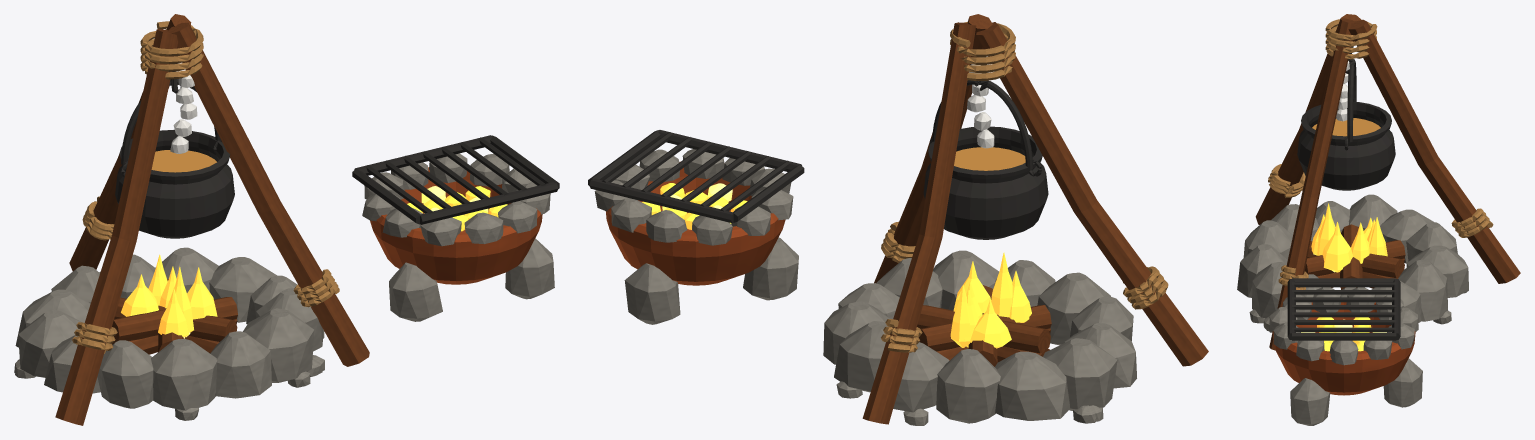
The model's file is campfire.glb.
3 renders of one model, left to right at view 1: azimuth 30°, elevation 25°; view 2: azimuth 150°, elevation 25°; view 3: azimuth 270°, elevation 25°, orthographic. The views are drawn at different scales.
Parts seen in each view (by area): view 1: Tripod pole 0, Tripod pole 1, Hollow cooking pot, Terracotta brazier bowl, Fire ring stone 04, Fire ring stone 02, Fire ring stone 03, Fire ring stone 05, Fire ring stone 07, Brazier stone foot.001, Fire ring stone 12, Tripod pole 2 (+38 smaller); view 2: Tripod pole 0, Tripod pole 2, Hollow cooking pot, Terracotta brazier bowl, Fire ring stone 08, Fire ring stone 09, Fire ring stone 07, Brazier stone foot.002, Fire ring stone 11, Fire ring stone 04, Tripod pole 1, Fire ring stone 10 (+39 smaller); view 3: Tripod pole 2, Hollow cooking pot, Tripod pole 1, Terracotta brazier bowl, Tripod pole 0, Fire ring stone 11, Brazier stone foot, Fire ring stone 10, Fire ring stone 02, Brazier stone foot.002, Fire ring stone 03, Fire ring stone 08 (+39 smaller).
Boxes of the visible parts, x1,y1,x2,y2 form: Tripod pole 0: [55, 28, 177, 425]; Tripod pole 1: [167, 22, 369, 366]; Hollow cooking pot: [115, 129, 234, 238]; Terracotta brazier bowl: [370, 167, 542, 284]; Fire ring stone 04: [151, 339, 217, 410]; Fire ring stone 02: [243, 308, 314, 382]; Fire ring stone 03: [210, 331, 271, 398]; Fire ring stone 05: [97, 340, 153, 408]; Fire ring stone 07: [18, 309, 81, 377]; Brazier stone foot.001: [389, 262, 442, 321]; Fire ring stone 12: [209, 257, 276, 322]; Tripod pole 2: [69, 14, 191, 271]; Tripod pole 0: [976, 22, 1208, 366]; Tripod pole 2: [862, 22, 976, 424]; Hollow cooking pot: [923, 126, 1048, 239]; Terracotta brazier bowl: [605, 161, 785, 285]; Fire ring stone 08: [995, 351, 1070, 420]; Fire ring stone 09: [936, 349, 1000, 423]; Fire ring stone 07: [1043, 338, 1117, 410]; Brazier stone foot.002: [624, 263, 680, 324]; Fire ring stone 11: [834, 321, 888, 392]; Fire ring stone 04: [1037, 272, 1110, 345]; Tripod pole 1: [874, 14, 992, 283]; Fire ring stone 10: [893, 342, 949, 412]; Tripod pole 2: [1348, 19, 1520, 283]; Hollow cooking pot: [1297, 102, 1395, 190]; Tripod pole 1: [1269, 18, 1355, 350]; Terracotta brazier bowl: [1272, 302, 1415, 395]; Tripod pole 0: [1255, 14, 1361, 224]; Fire ring stone 11: [1398, 259, 1448, 321]; Brazier stone foot: [1290, 378, 1330, 425]; Fire ring stone 10: [1406, 245, 1468, 297]; Fire ring stone 02: [1252, 262, 1286, 317]; Brazier stone foot.002: [1383, 358, 1422, 407]; Fire ring stone 03: [1237, 244, 1287, 297]; Fire ring stone 08: [1380, 209, 1433, 263].
Bounding box in the file's own units: 4.11 × 2.55 × 2.34.
Materials: 9 (5 with a texture image).
